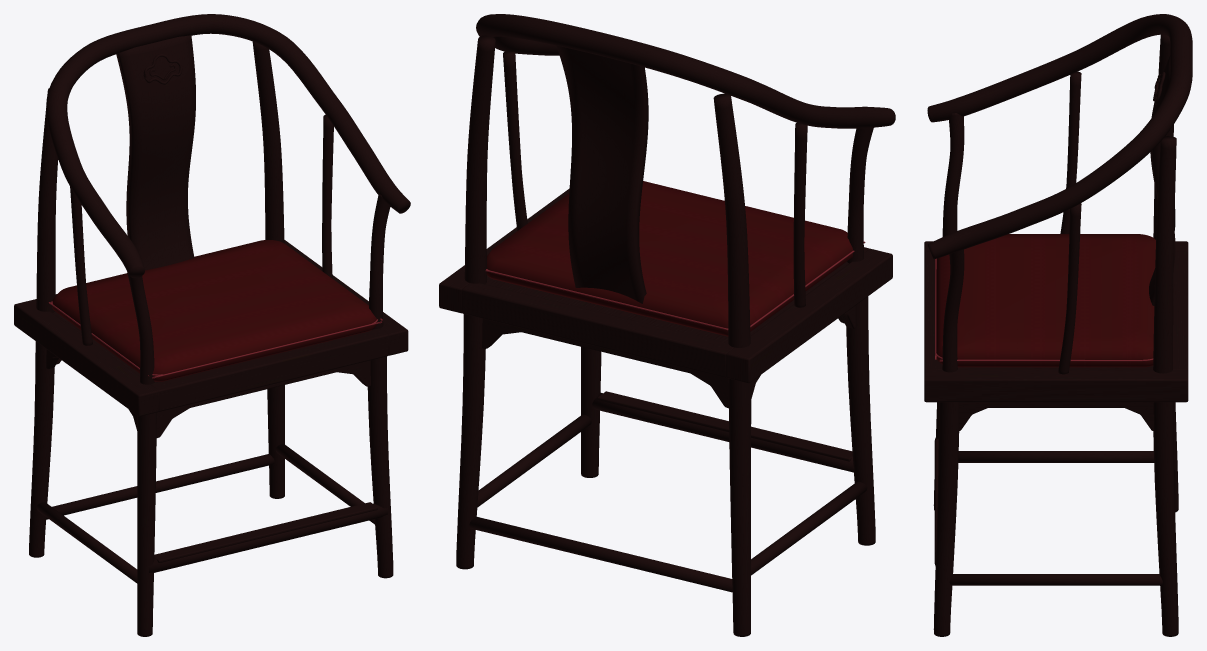
File: gpt-quanyi-v1.glb
The picture shows the model from 3 angles, left to right: view 1: azimuth 30°, elevation 25°; view 2: azimuth 150°, elevation 25°; view 3: azimuth 270°, elevation 25°; orthographic projection. The views are drawn at different scales.
Parts seen in each view (by area): view 1: 紫檀·纵向细纹构件, 暗红绸·经纬织纹构件, 坐垫同色滚边构件; view 2: 紫檀·纵向细纹构件, 暗红绸·经纬织纹构件, 坐垫同色滚边构件; view 3: 紫檀·纵向细纹构件, 暗红绸·经纬织纹构件, 坐垫同色滚边构件.
Boxes of the visible parts, x1,y1,x2,y2 form: 紫檀·纵向细纹构件: (14, 14, 410, 636); 暗红绸·经纬织纹构件: (52, 240, 376, 381); 坐垫同色滚边构件: (48, 301, 382, 378); 紫檀·纵向细纹构件: (439, 14, 895, 636); 暗红绸·经纬织纹构件: (486, 181, 852, 336); 坐垫同色滚边构件: (485, 241, 865, 330); 紫檀·纵向细纹构件: (924, 14, 1192, 636); 暗红绸·经纬织纹构件: (936, 234, 1155, 367); 坐垫同色滚边构件: (935, 258, 1153, 361).
Size of the model in its own units: 0.5936 by 1 by 0.4657.
3 materials, 2 textured.
